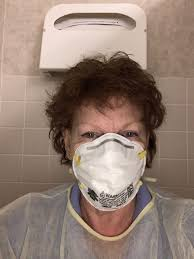masked: (57, 65, 156, 202)
